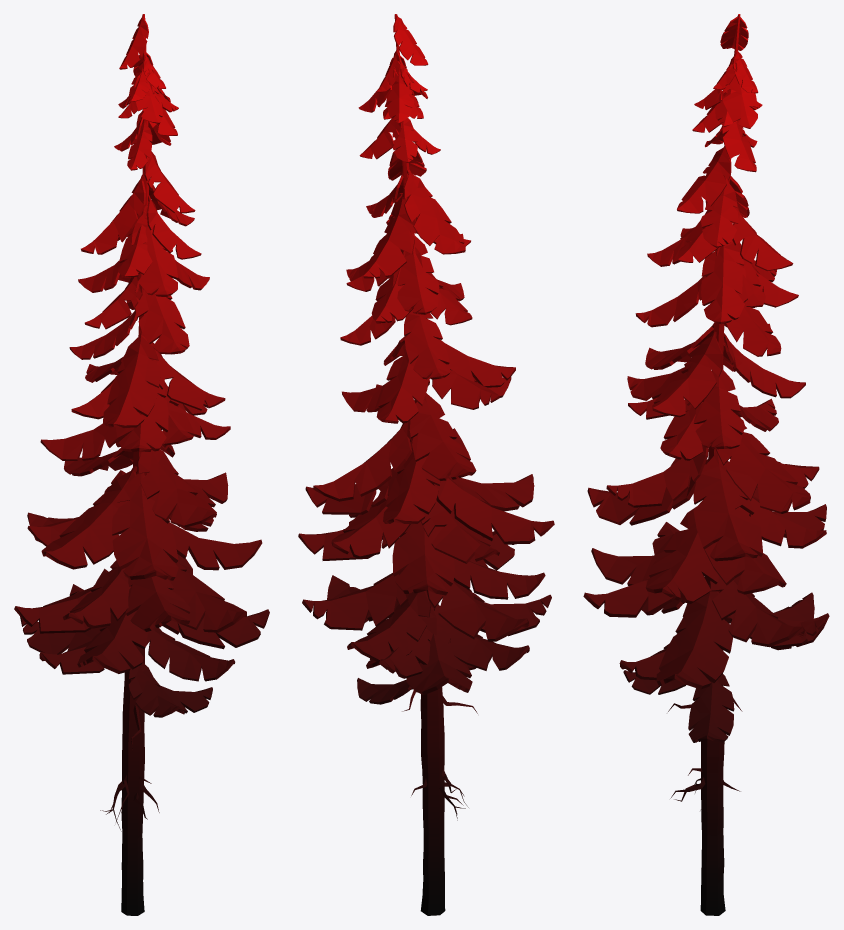
Rendered from TreeSpruceTall04.fbx.
The picture shows the model from 3 angles, left to right: view 1: azimuth 30°, elevation 25°; view 2: azimuth 150°, elevation 25°; view 3: azimuth 270°, elevation 25°; orthographic projection. The views are drawn at different scales.
Parts seen in each view (by area): view 1: TreeSpruceTall04_LOD0; view 2: TreeSpruceTall04_LOD0; view 3: TreeSpruceTall04_LOD0.
Part boxes in pixels (left/top/right/bottom): TreeSpruceTall04_LOD0: left=14, top=14, right=269, bottom=915; TreeSpruceTall04_LOD0: left=298, top=14, right=554, bottom=915; TreeSpruceTall04_LOD0: left=583, top=14, right=829, bottom=915.
Size of what is drawn, in the model's own units: 375 by 1409 by 346.
